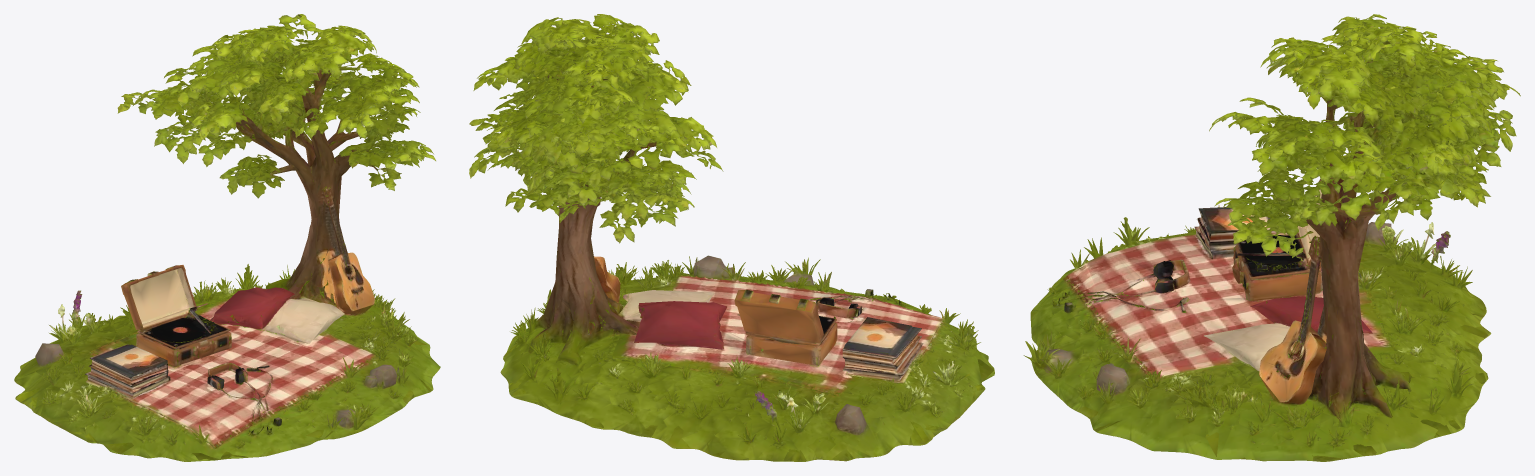
File: music.glb
3 views of the same model, side by side, from view 1: azimuth 30°, elevation 25°; view 2: azimuth 150°, elevation 25°; view 3: azimuth 270°, elevation 25° (orthographic). The views are drawn at different scales.
Visible parts, largest first — view 1: mesh_node; view 2: mesh_node; view 3: mesh_node.
Boxes of the visible parts, x1=… form: mesh_node: x1=14, y1=14, x2=440, y2=461; mesh_node: x1=469, y1=14, x2=994, y2=461; mesh_node: x1=1023, y1=14, x2=1520, y2=461.
Size of the model in its own units: 1.86 by 1.35 by 1.6.
Materials: 1 (1 with a texture image).
